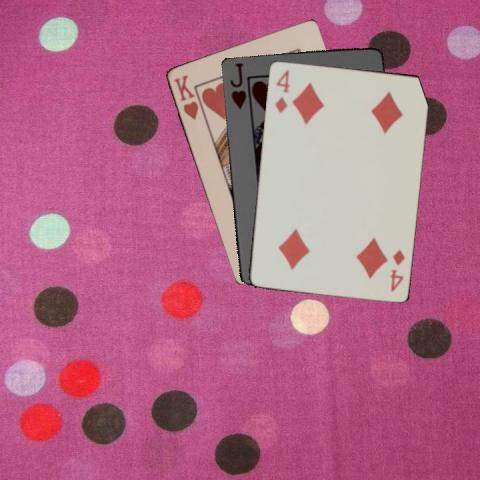4d: (386, 246, 406, 293), (272, 67, 291, 114)
Jh: (227, 59, 247, 111)
Kh: (170, 72, 199, 122)
